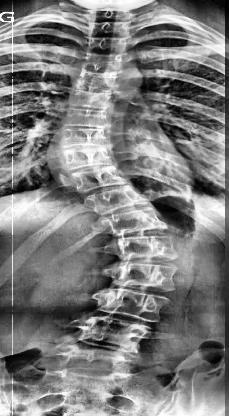Vertebrae: (68, 312, 148, 354), (51, 342, 131, 380), (94, 286, 168, 322), (111, 232, 180, 264), (106, 260, 178, 290), (82, 186, 148, 214), (101, 208, 165, 236), (70, 164, 130, 192), (56, 126, 112, 152), (58, 146, 114, 168), (79, 48, 125, 74), (62, 106, 110, 130), (66, 88, 112, 113), (70, 70, 118, 92), (85, 6, 131, 24), (86, 20, 132, 38), (85, 36, 129, 54)
